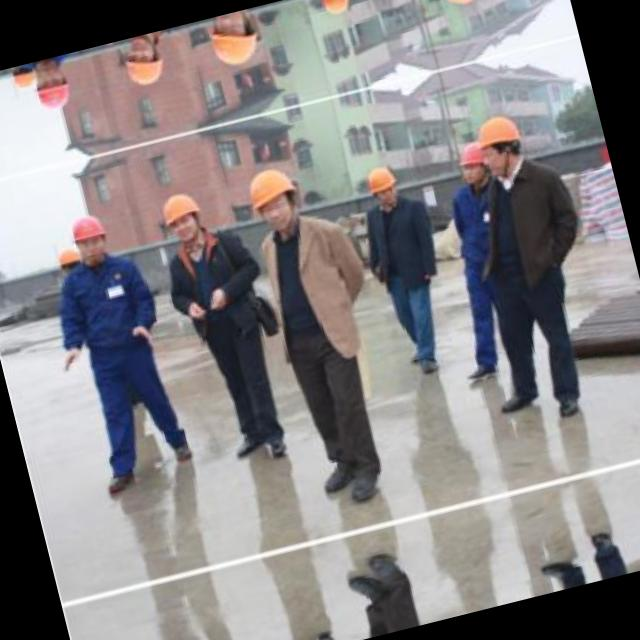helmet: (236, 155, 312, 242), (200, 5, 272, 76), (470, 108, 529, 177), (152, 184, 208, 254), (24, 54, 80, 118), (114, 31, 170, 94), (63, 204, 117, 268), (359, 156, 406, 211), (450, 136, 494, 187), (53, 238, 88, 282), (8, 62, 42, 94), (315, 0, 360, 21)
